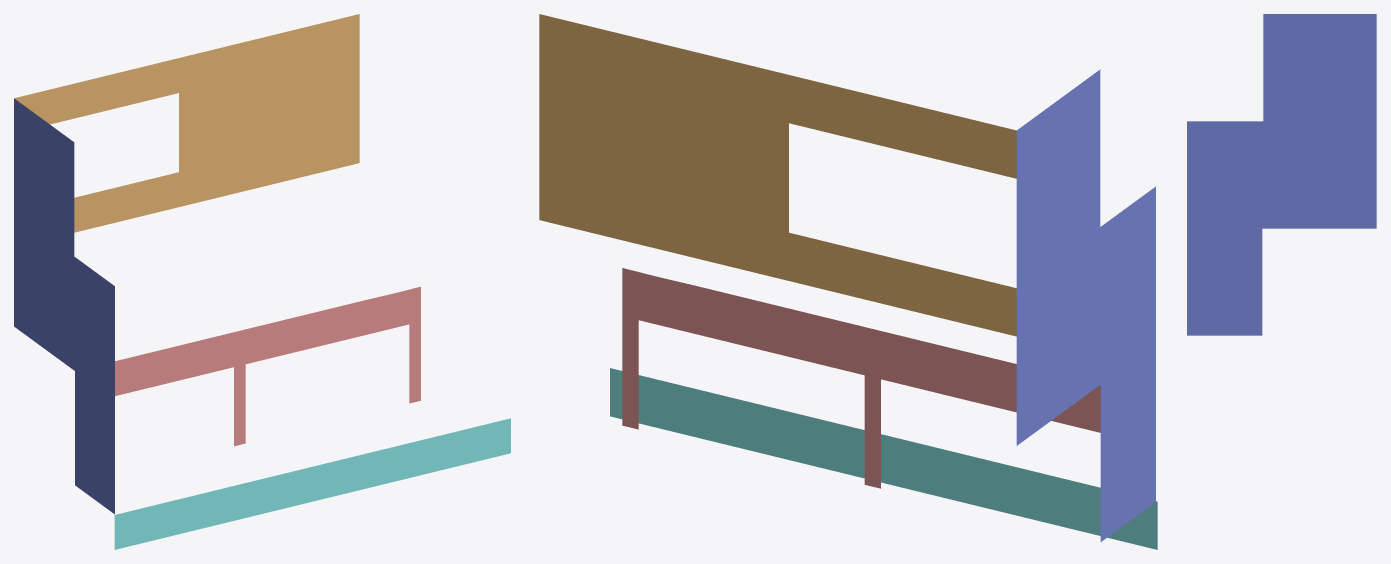
File: wavy_screens.fbx
The picture shows the model from 3 angles, left to right: view 1: azimuth 30°, elevation 25°; view 2: azimuth 150°, elevation 25°; view 3: azimuth 270°, elevation 25°; orthographic projection. The views are drawn at different scales.
Parts seen in each view (by area): view 1: Top, Side, Bottom, Middle; view 2: Top, Side, Middle, Bottom; view 3: Side.
Part boxes in pixels (x1=…): Top: x1=14, y1=14, x2=359, y2=232; Side: x1=14, y1=98, x2=114, y2=514; Bottom: x1=114, y1=418, x2=510, y2=549; Middle: x1=115, y1=286, x2=420, y2=446; Top: x1=539, y1=14, x2=1016, y2=336; Side: x1=1016, y1=69, x2=1155, y2=541; Middle: x1=622, y1=268, x2=1100, y2=488; Bottom: x1=610, y1=368, x2=1157, y2=549; Side: x1=1187, y1=14, x2=1376, y2=335.
Bounding box in the file's own units: 17889 × 16286 × 7916.
